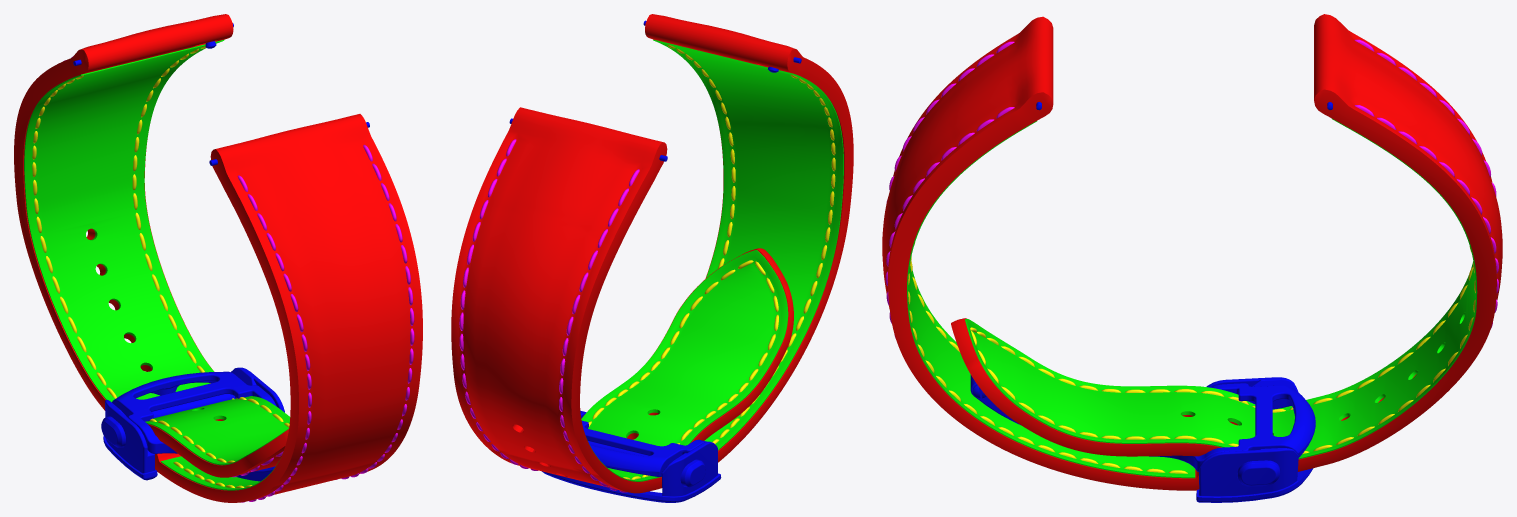
File: Tank_Must_XL_Calf.fbx
3 views of the same model, side by side, from view 1: azimuth 30°, elevation 25°; view 2: azimuth 150°, elevation 25°; view 3: azimuth 270°, elevation 25° (orthographic). The views are drawn at different scales.
Parts seen in each view (by area): view 1: Tank_Must_XL_Calf; view 2: Tank_Must_XL_Calf; view 3: Tank_Must_XL_Calf.
Boxes of the visible parts, x1,y1,x2,y2 form: Tank_Must_XL_Calf: (14,14,422,502); Tank_Must_XL_Calf: (451,14,853,502); Tank_Must_XL_Calf: (882,14,1502,502).
Bounding box in the file's own units: 0.9803 × 2.3 × 3.1.
